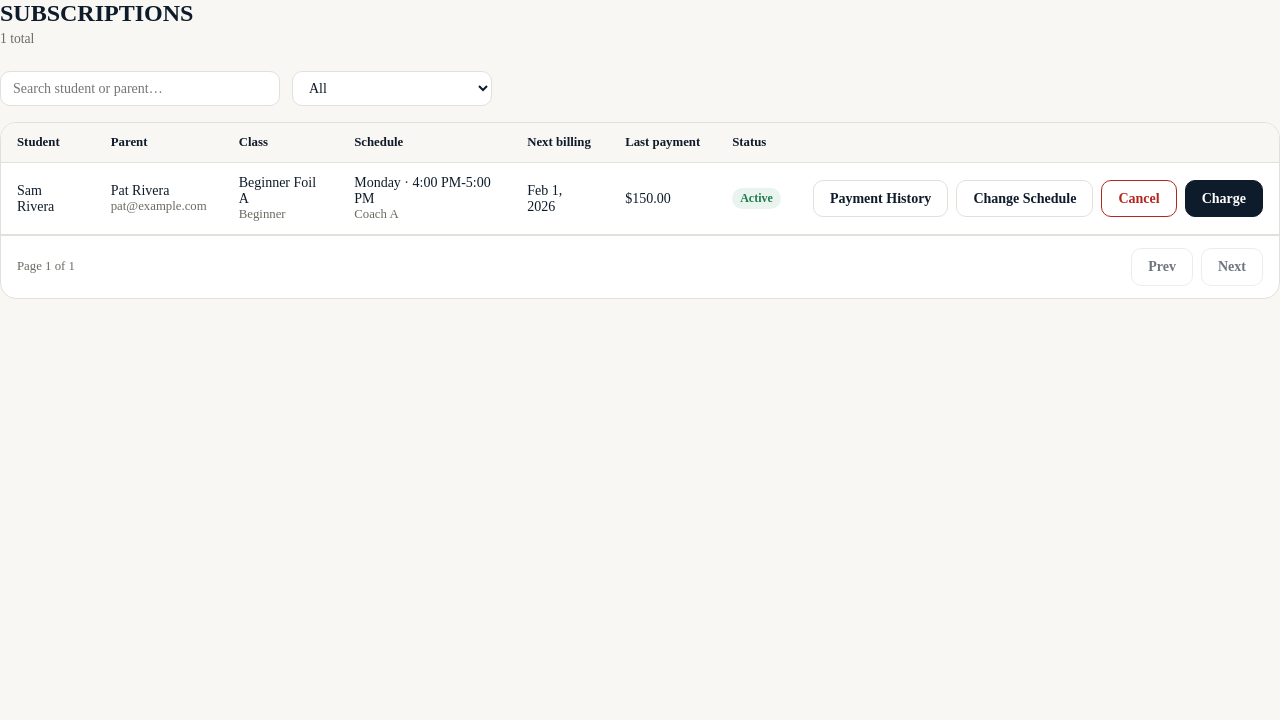
Test case: AdminSubscriptionsPage › Charge button (superadmin only) › shows the breakdown, total, and card on file, with Confirm enabled
Check: the text "Sam Rivera" is shown, box 1,162 -> 95,234
Click the button "Charge".
click(1224, 198)  # box 1185,180 -> 1263,217
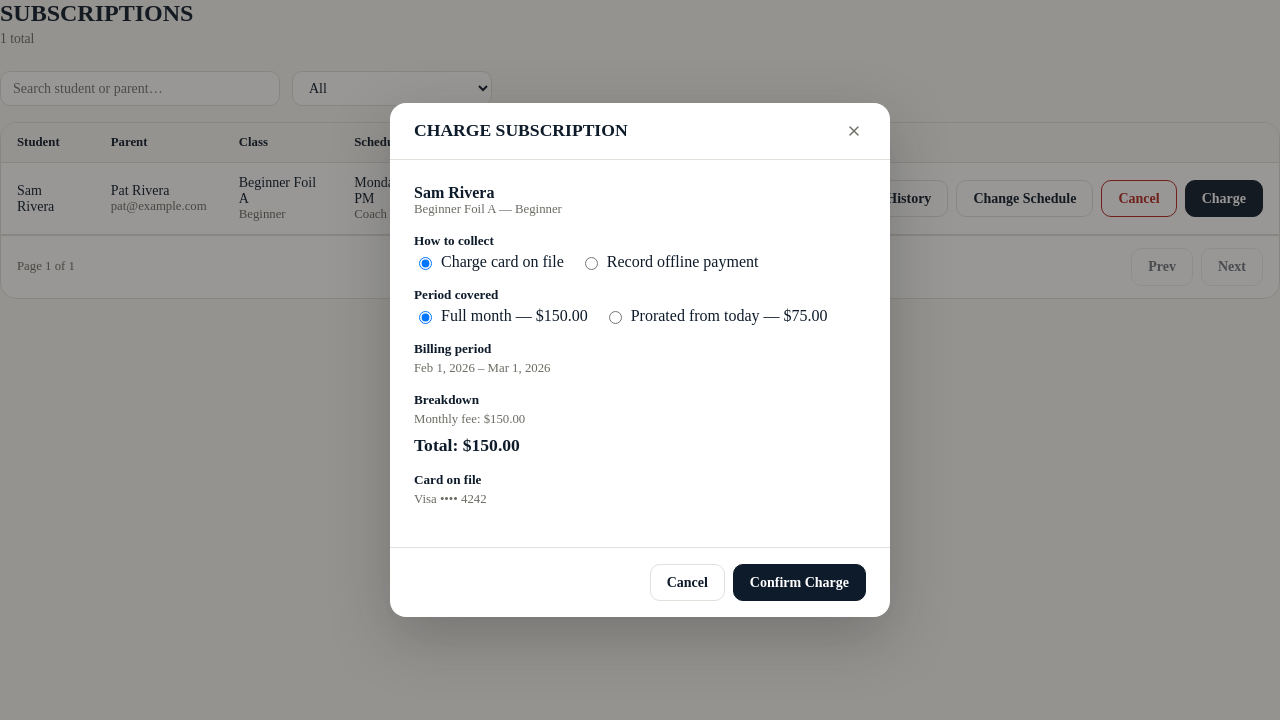
Check: the text "Monthly fee: $150.00" is shown, box 414,412 -> 525,426
Check: the text "Total: $150.00" is shown, box 414,435 -> 520,455
Check: the text "Visa •••• 4242" is shown, box 414,492 -> 487,506
